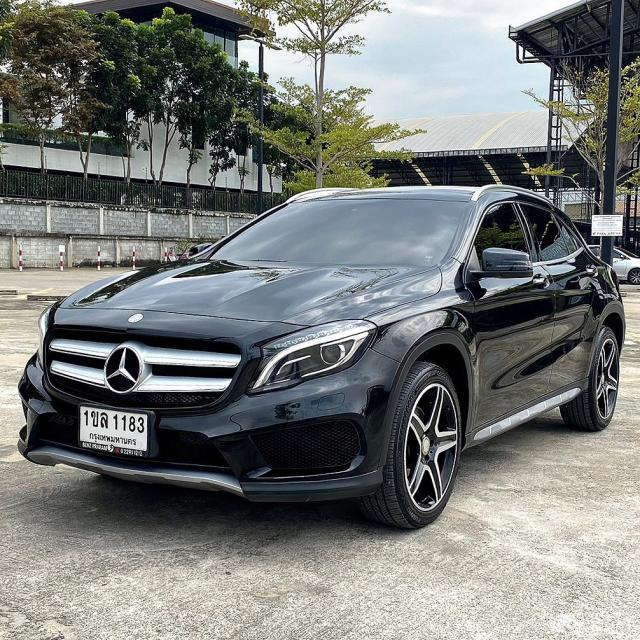license_plate: (75, 401, 158, 464)
